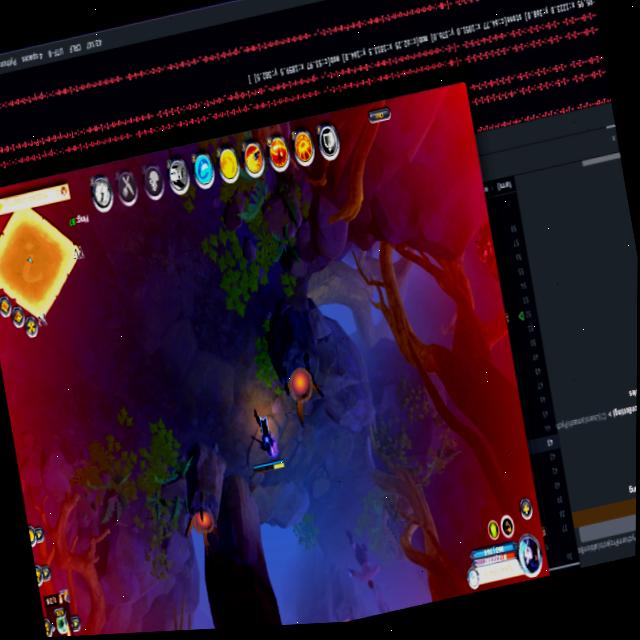ore: (335, 512, 387, 597), (367, 588, 391, 616)
red: (240, 398, 292, 484)
